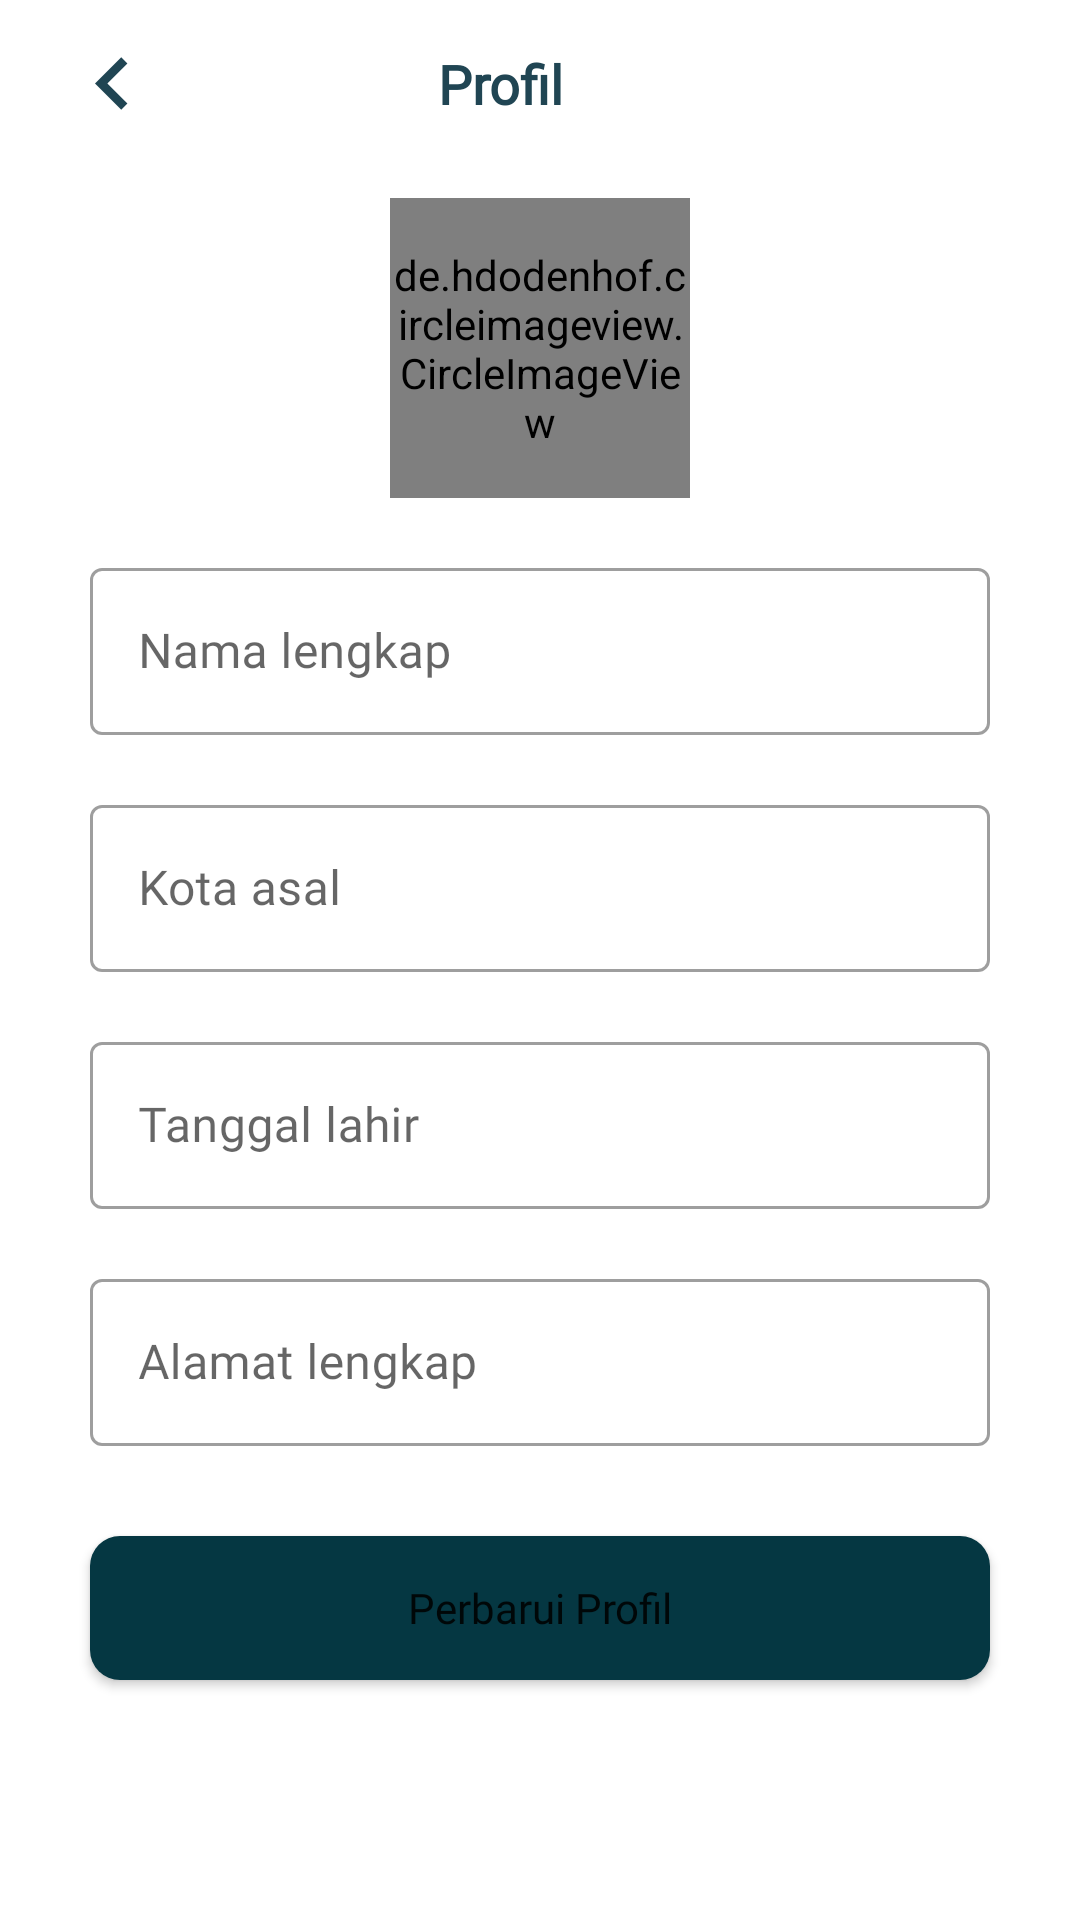

Named icons in this screenshot (1080 × 1920) and their bounding boxes, (x1, y1, x2, y2):
keyboard arrow left: (95, 57, 128, 110)
